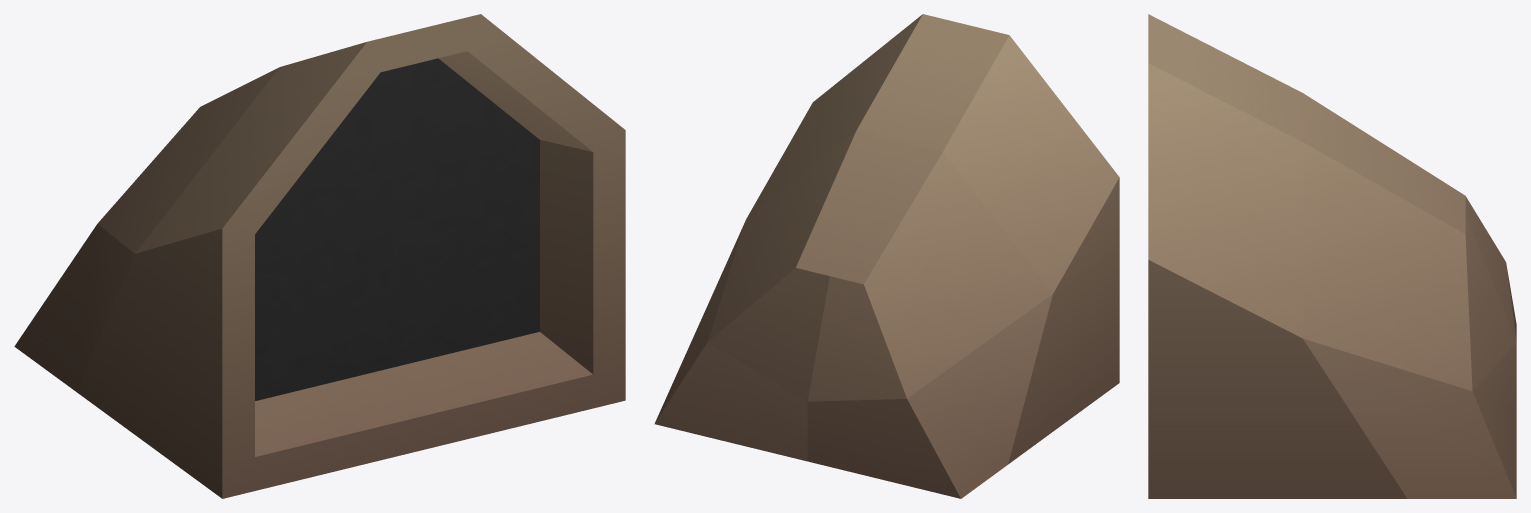
The model's file is ItemProps_RabbitHole.fbx.
3 renders of one model, left to right at view 1: azimuth 30°, elevation 25°; view 2: azimuth 150°, elevation 25°; view 3: azimuth 270°, elevation 25°, orthographic. The views are drawn at different scales.
Parts seen in each view (by area): view 1: Cube.064; view 2: Cube.064; view 3: Cube.064.
Boxes of the visible parts, <box> form: Cube.064: <box>14,14,625,498</box>; Cube.064: <box>654,14,1119,498</box>; Cube.064: <box>1148,14,1516,498</box>.
Size of the model in its own units: 76.77 by 76.77 by 68.65.
